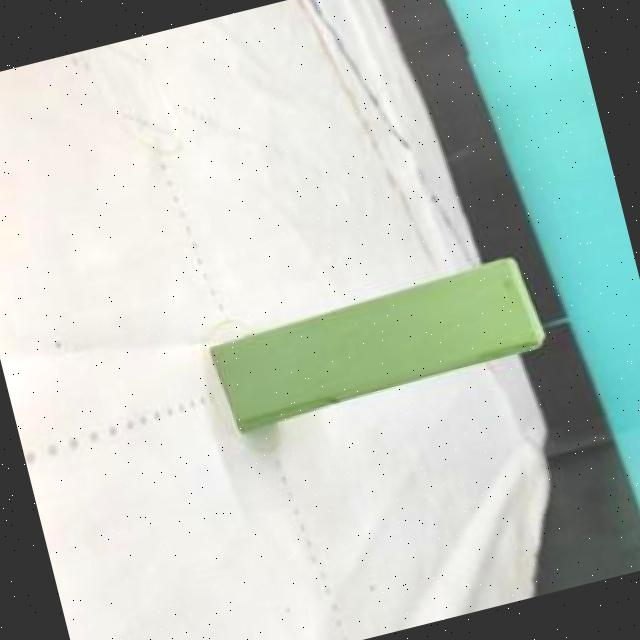greenbox: (202, 246, 558, 436)
